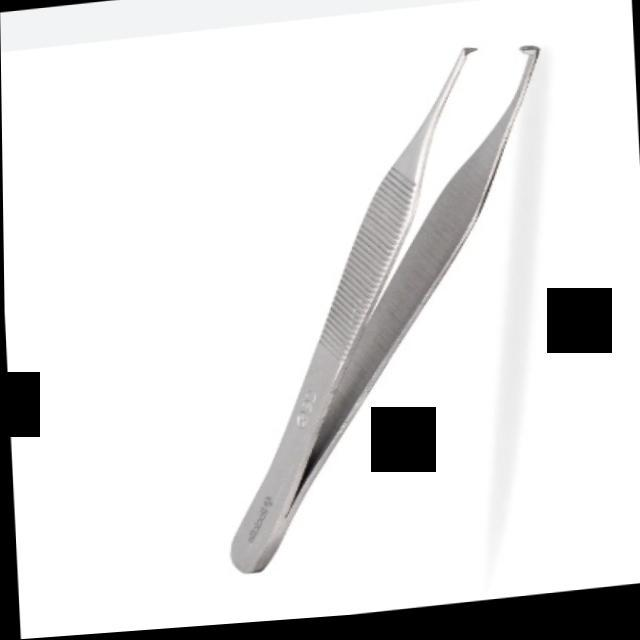Disscting Forceps -tooth-: (198, 44, 568, 579)
